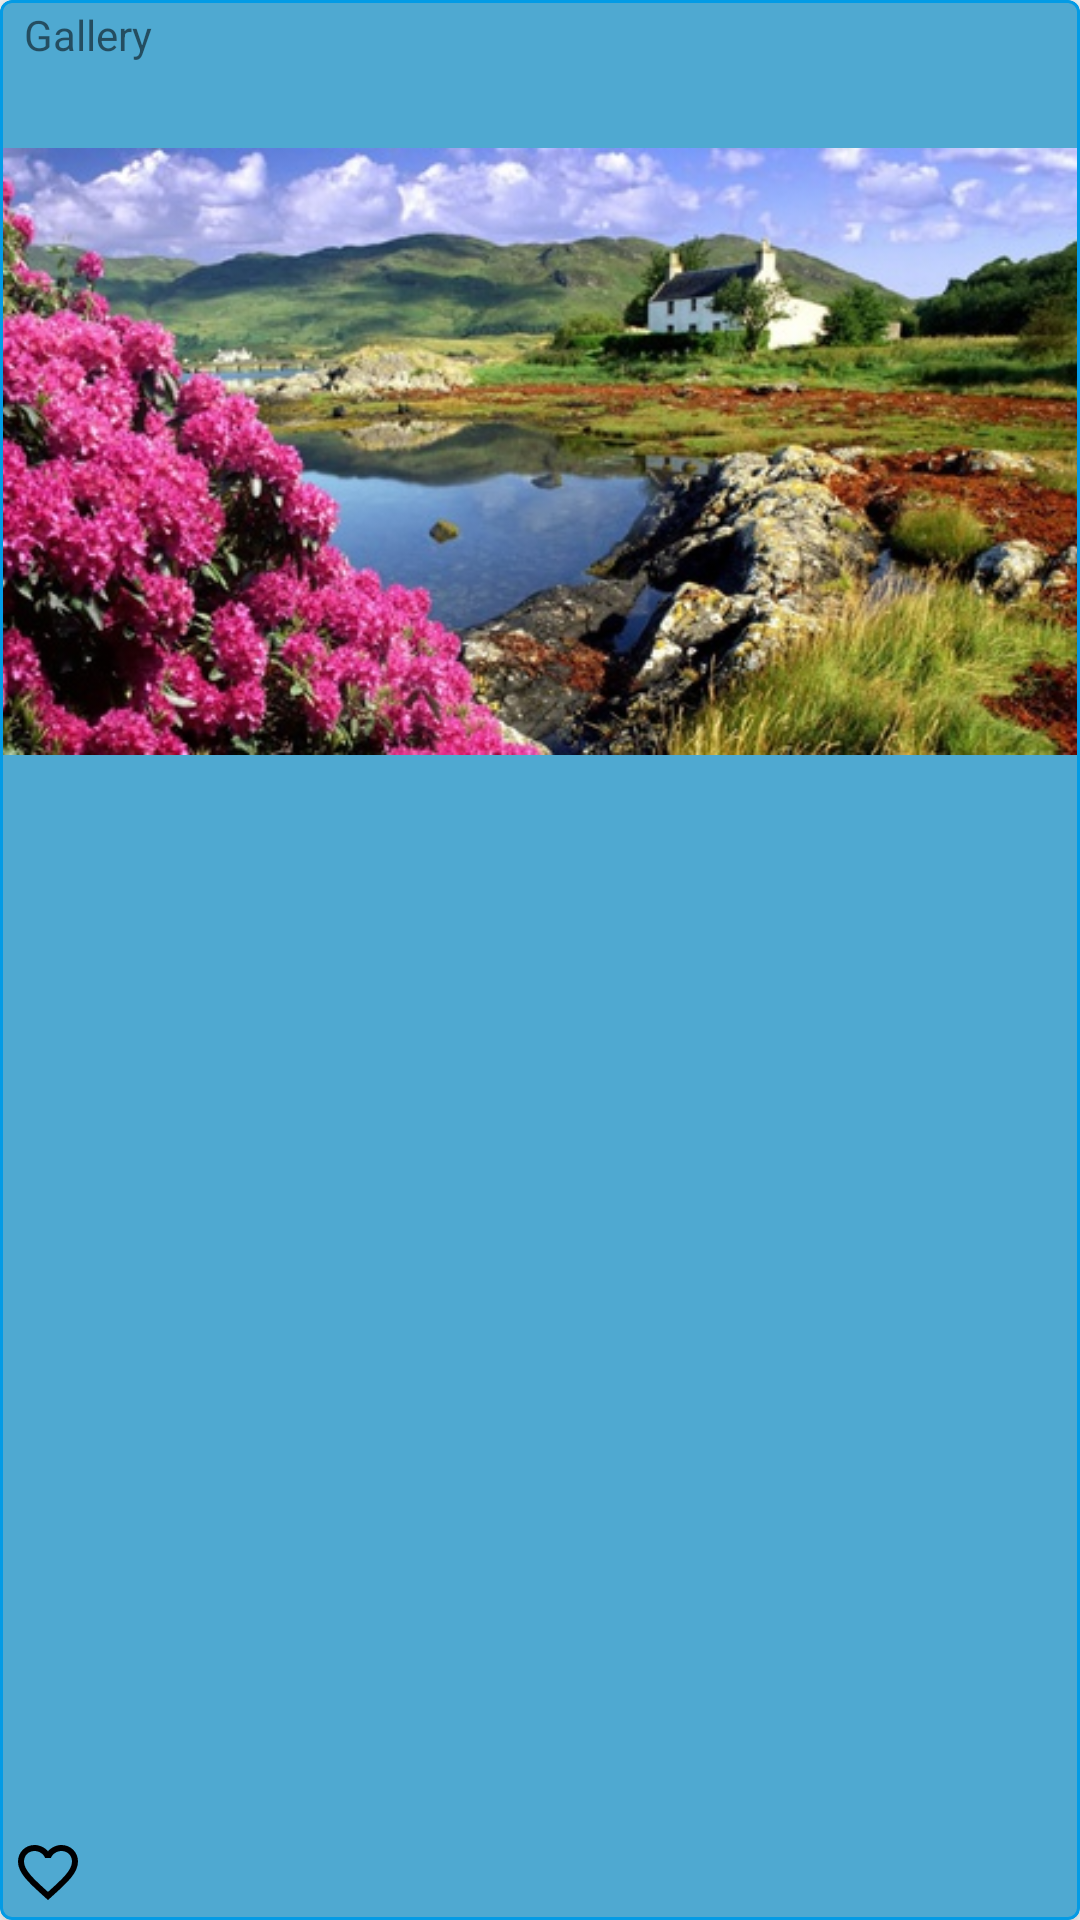

Where icons sit on this 1080 × 1920 app screen, as bbox=(x1, y1, x2, y2):
favorite border: bbox=(18, 1845, 78, 1900)
